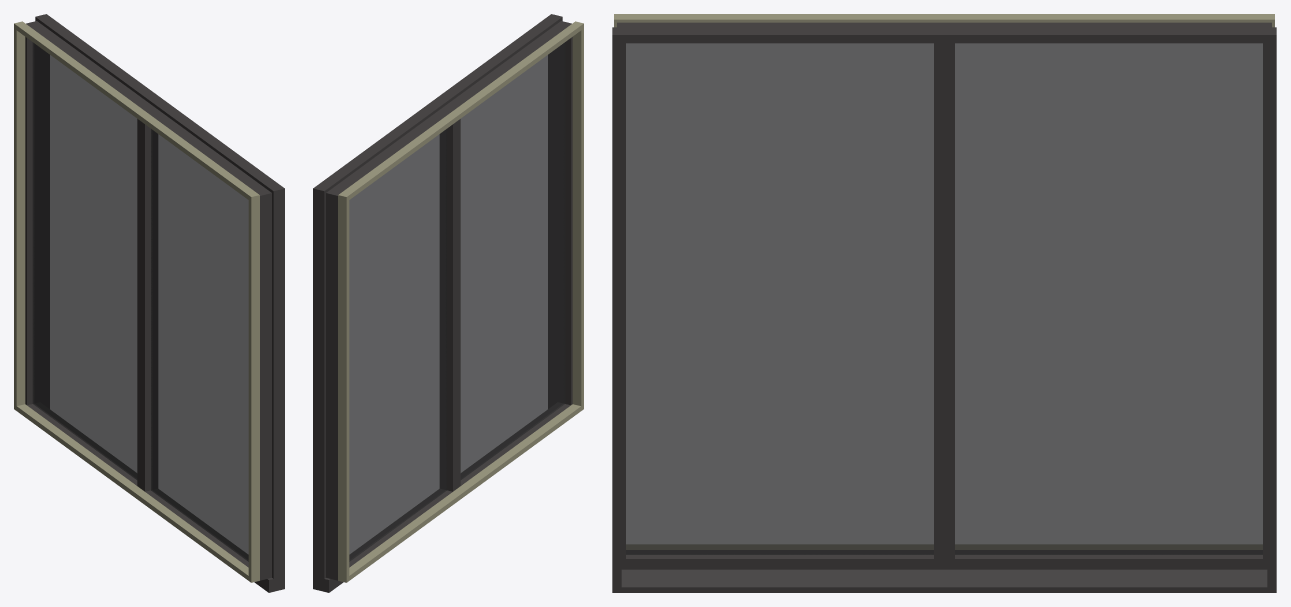
Rendered from window5.FBX.
3 views of the same model, side by side, from view 1: azimuth 30°, elevation 25°; view 2: azimuth 150°, elevation 25°; view 3: azimuth 270°, elevation 25° (orthographic). The views are drawn at different scales.
Parts seen in each view (by area): view 1: 138:2:4; view 2: 138:2:4; view 3: 138:2:4.
Boxes of the visible parts, <box> form: 138:2:4: <box>14,14,284,592</box>; 138:2:4: <box>313,14,583,592</box>; 138:2:4: <box>612,14,1276,592</box>.
Bounding box in the file's own units: 6.89 × 79.72 × 86.
